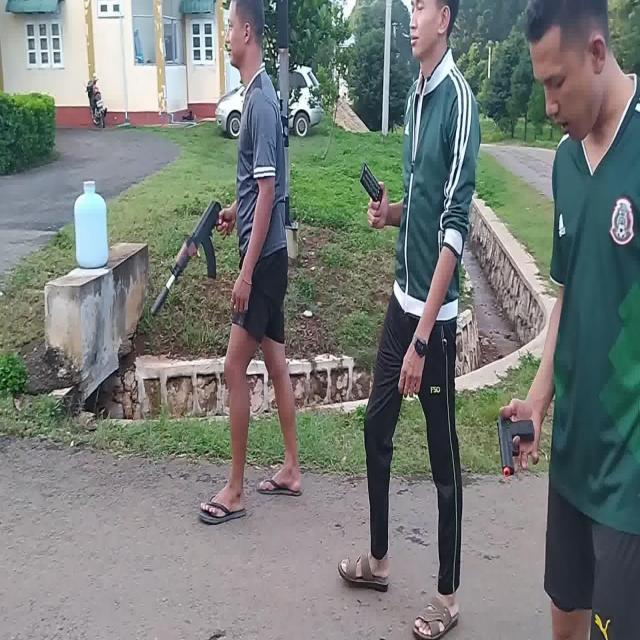gun: (151, 201, 232, 317), (496, 416, 534, 478)
